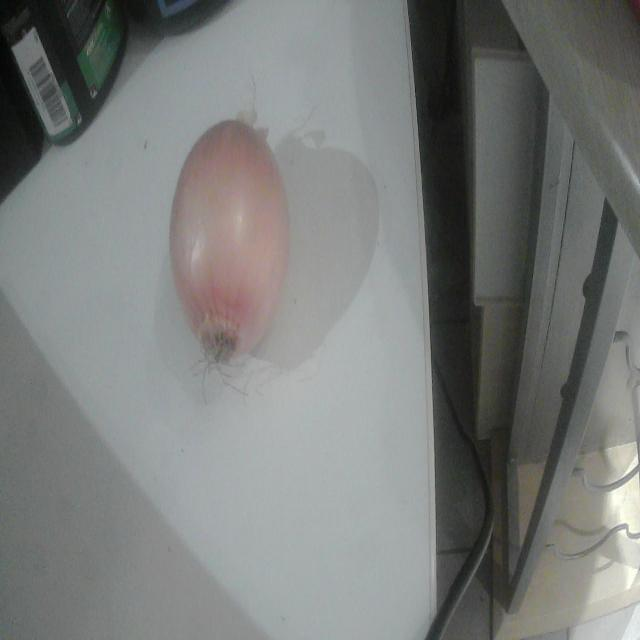Onion: (170, 120, 289, 357)
